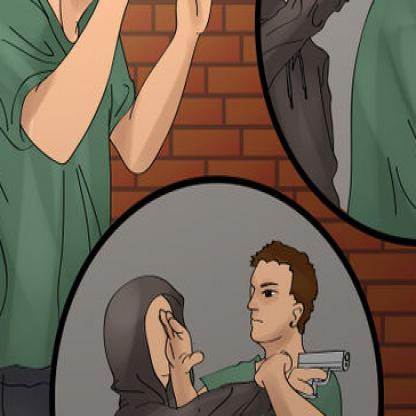gun: (272, 337, 353, 414)
